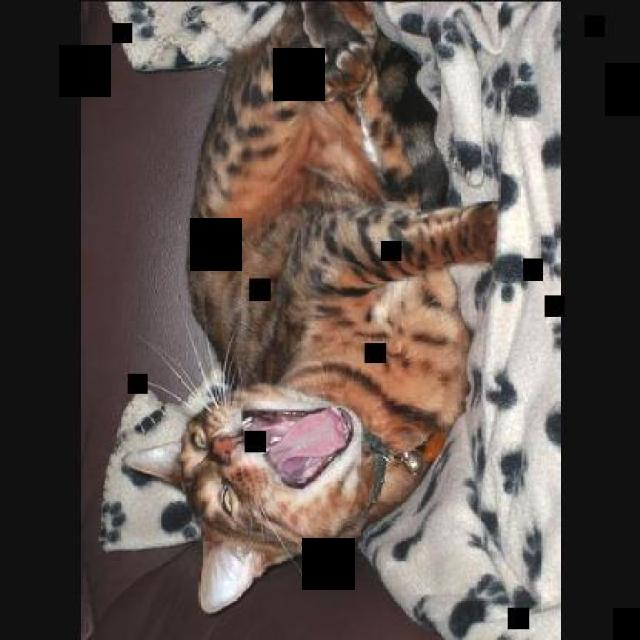unauthorized: (100, 0, 502, 614)
